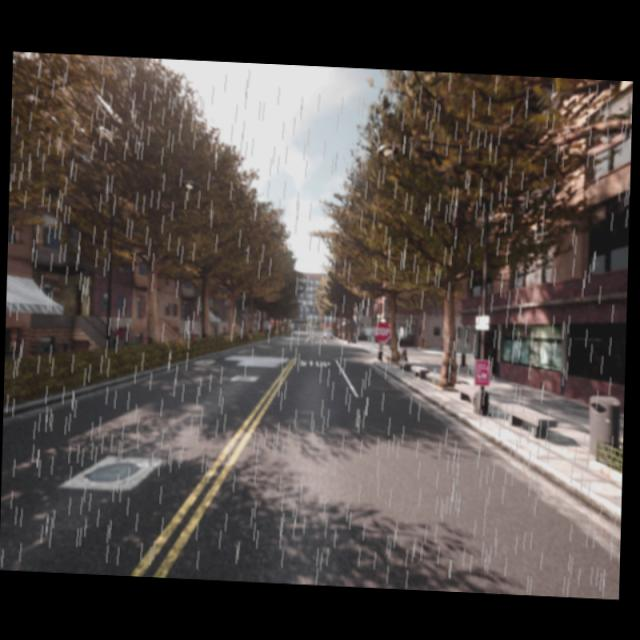stop sign: (372, 317, 392, 344)
